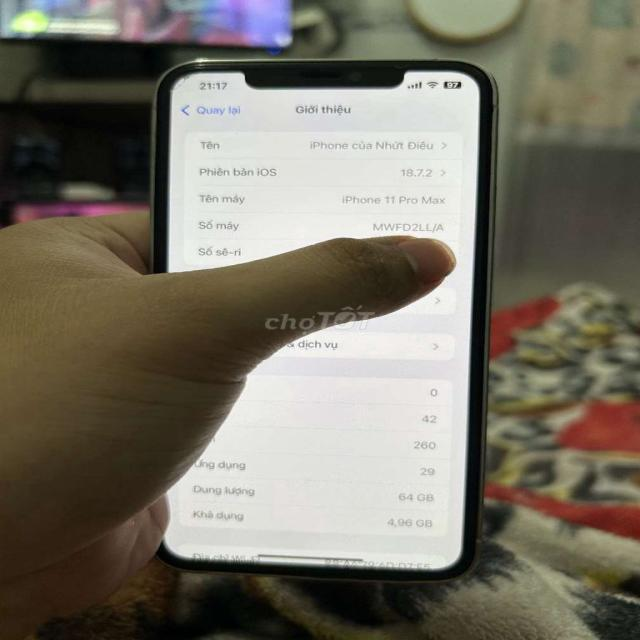gen_11: (142, 53, 520, 588)
